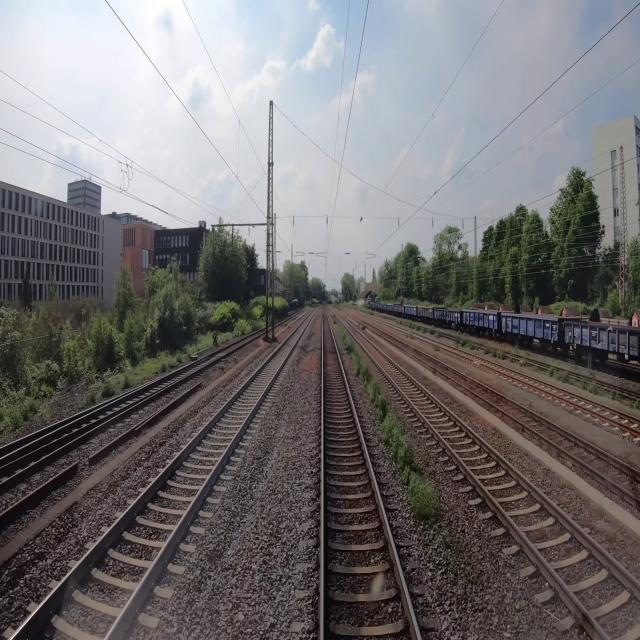Plant: (338, 325, 439, 518), (454, 335, 476, 350), (556, 370, 576, 386), (586, 381, 600, 396), (492, 347, 504, 360), (406, 321, 420, 330), (519, 355, 528, 368), (630, 400, 639, 409), (548, 366, 554, 377), (435, 330, 441, 340), (433, 343, 440, 351), (484, 346, 491, 354), (397, 318, 402, 324), (429, 328, 433, 335), (422, 327, 426, 332)
